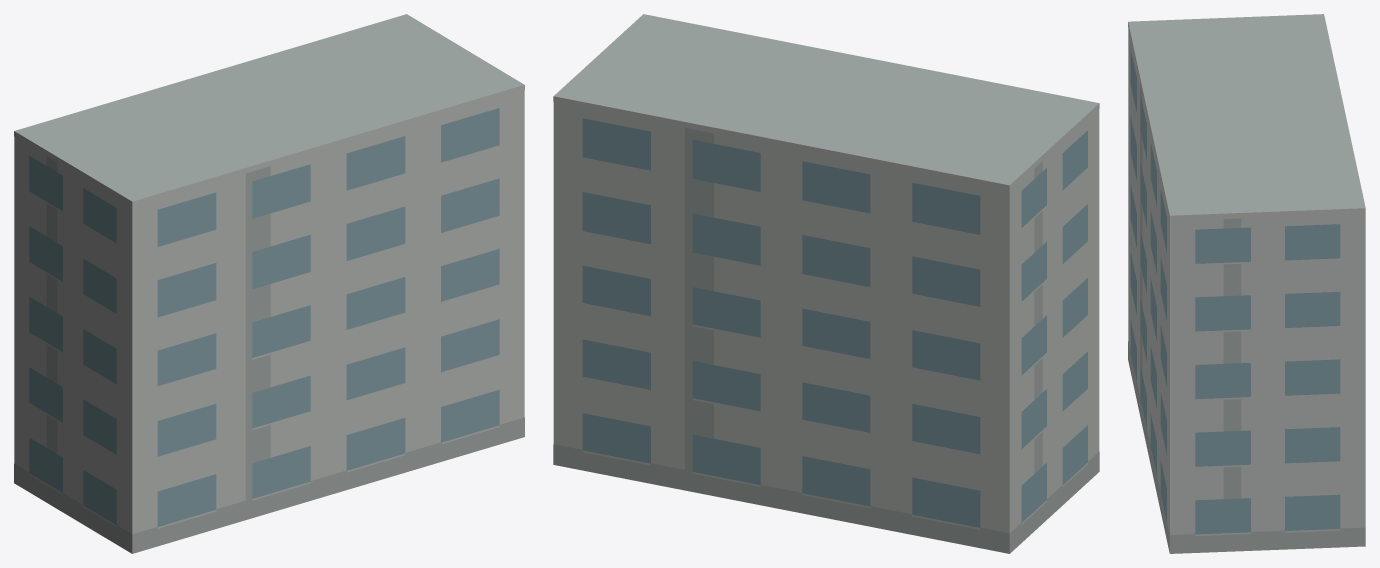
File: residential-5eef400e-748f-4be2-93e7-47f66ced12da.glb
The picture shows the model from 3 angles, left to right: view 1: azimuth 30°, elevation 25°; view 2: azimuth 150°, elevation 25°; view 3: azimuth 270°, elevation 25°; orthographic projection. The views are drawn at different scales.
Parts seen in each view (by area): view 1: residential-5eef400e-748f-4be2-93e7-47f66ced12da.tmp; view 2: residential-5eef400e-748f-4be2-93e7-47f66ced12da.tmp; view 3: residential-5eef400e-748f-4be2-93e7-47f66ced12da.tmp.
Boxes of the visible parts, x1,y1,x2,y2 form: residential-5eef400e-748f-4be2-93e7-47f66ced12da.tmp: (14, 14, 524, 553); residential-5eef400e-748f-4be2-93e7-47f66ced12da.tmp: (553, 14, 1099, 553); residential-5eef400e-748f-4be2-93e7-47f66ced12da.tmp: (1128, 14, 1365, 553).
Size of the model in its own units: 19.51 by 15.25 by 9.72.
